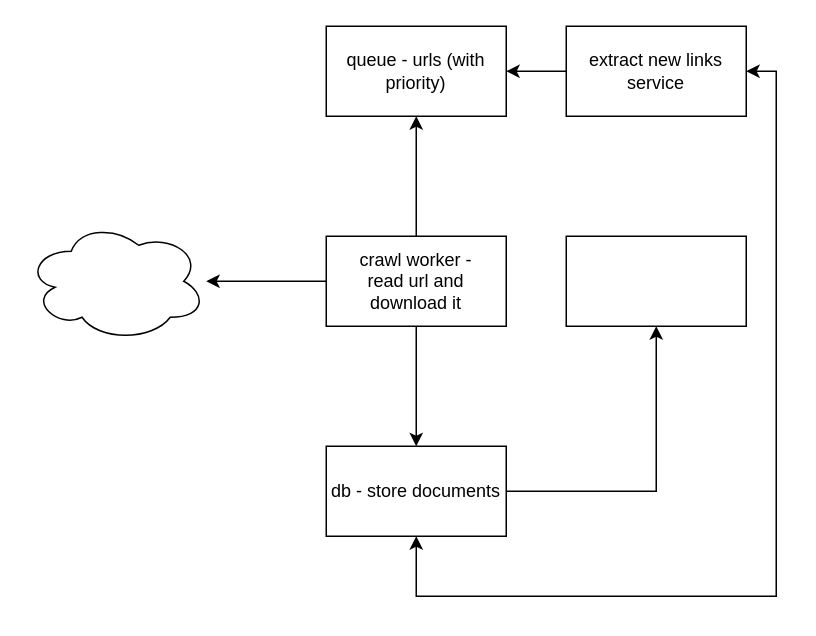
The diagram is 816 pixels wide and 636 high, and some of its shapes have lost their labels. The centre of each missing label's shape, as x and y in pixels:
"internet" belongs at point 115,280.
"process service - index, search content..." belongs at point 655,280.
